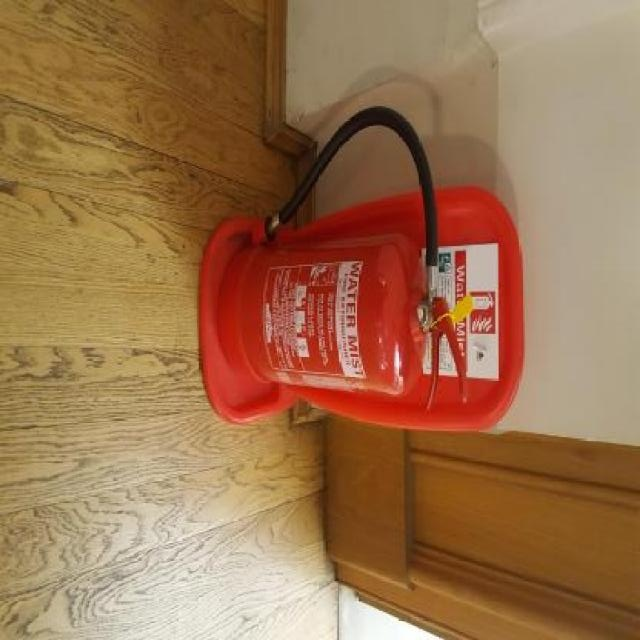fire extinguisher: (218, 103, 470, 409)
